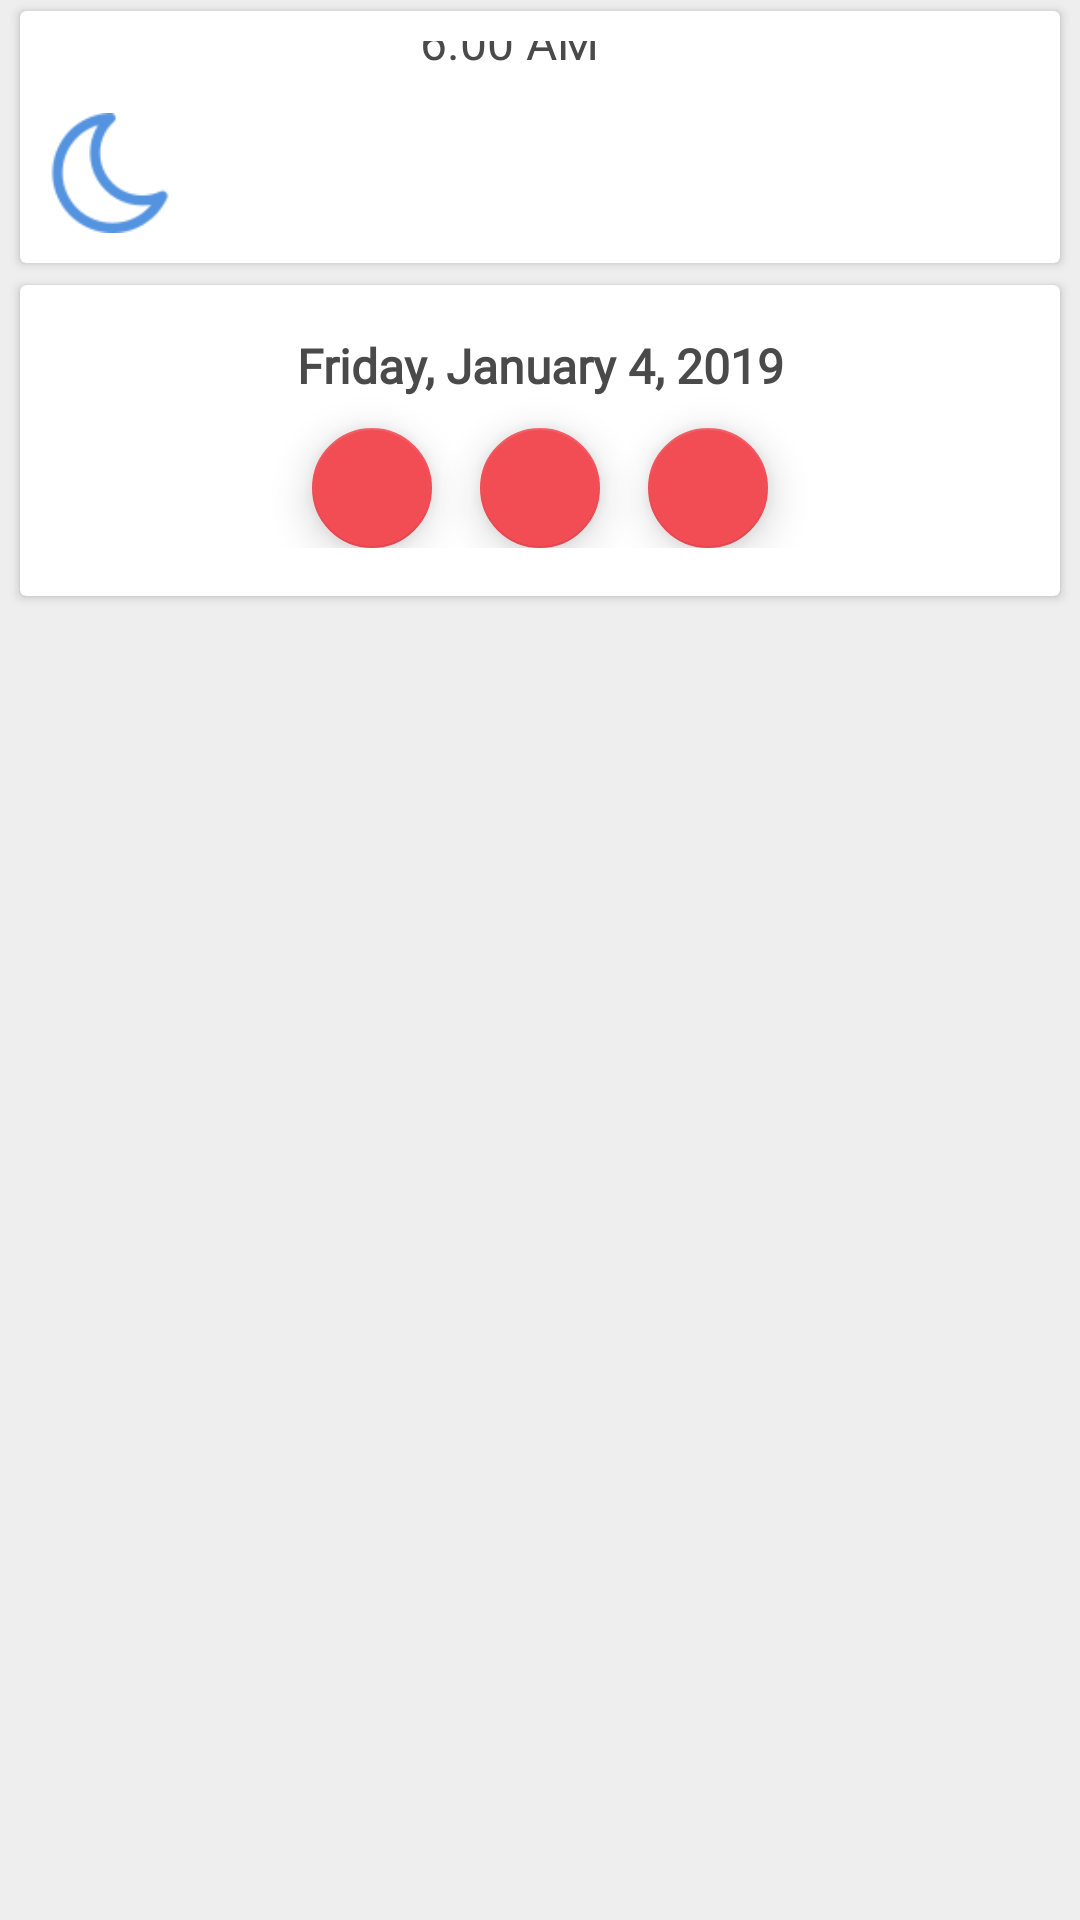

Icon click points for this 1080px×1920px phone screenshot, format [x,y]:
moon: [110,173]
